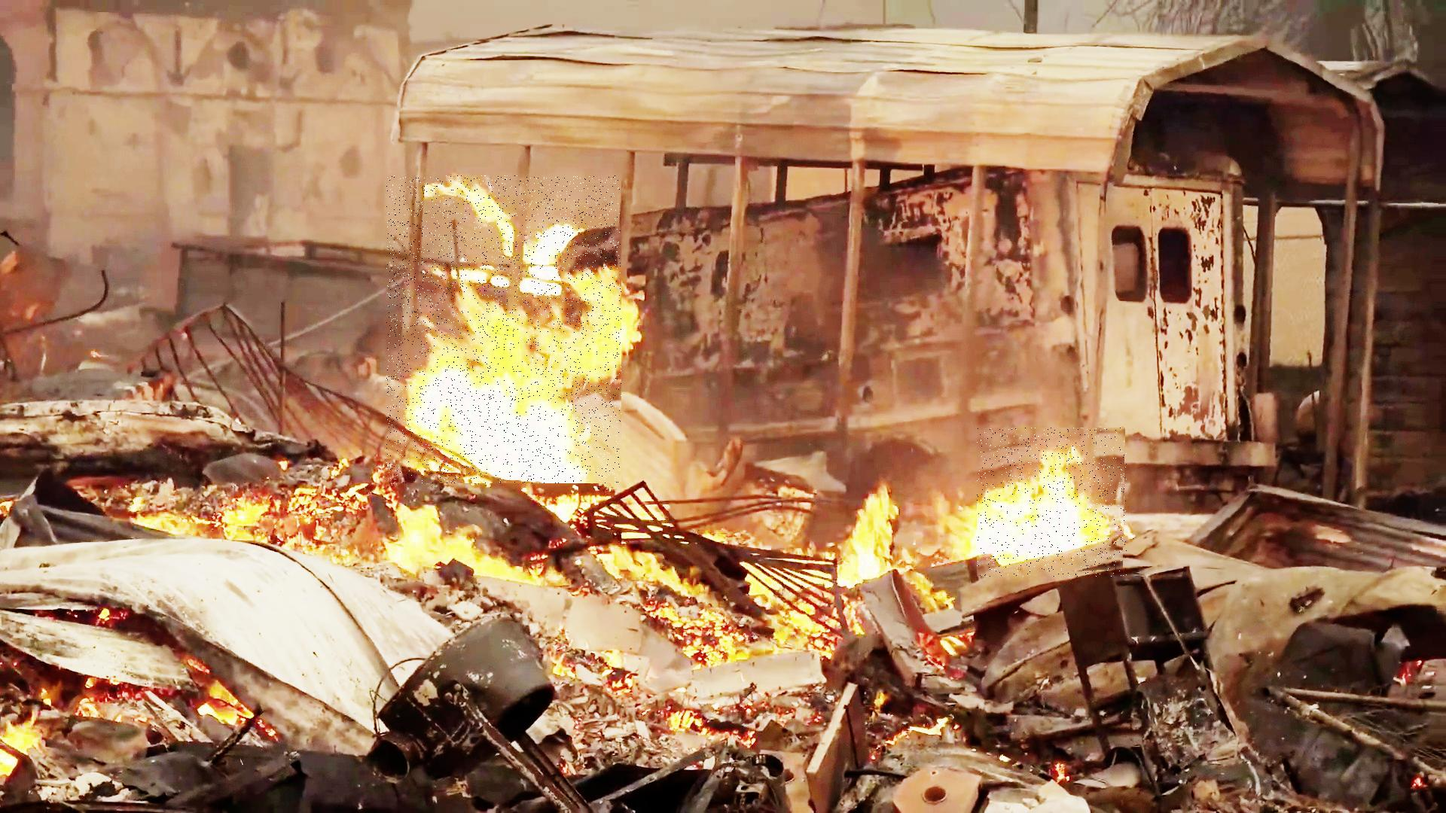fire: (386, 176, 621, 483), (977, 428, 1127, 577)
